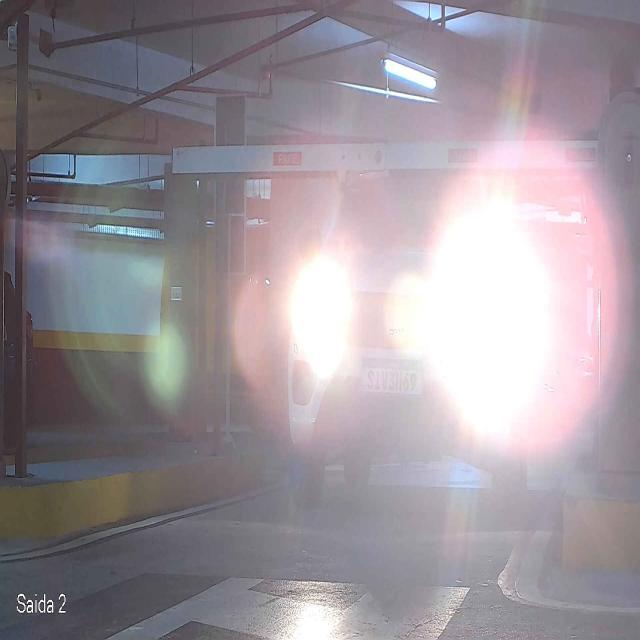mercosul_plate: (358, 356, 427, 396)
